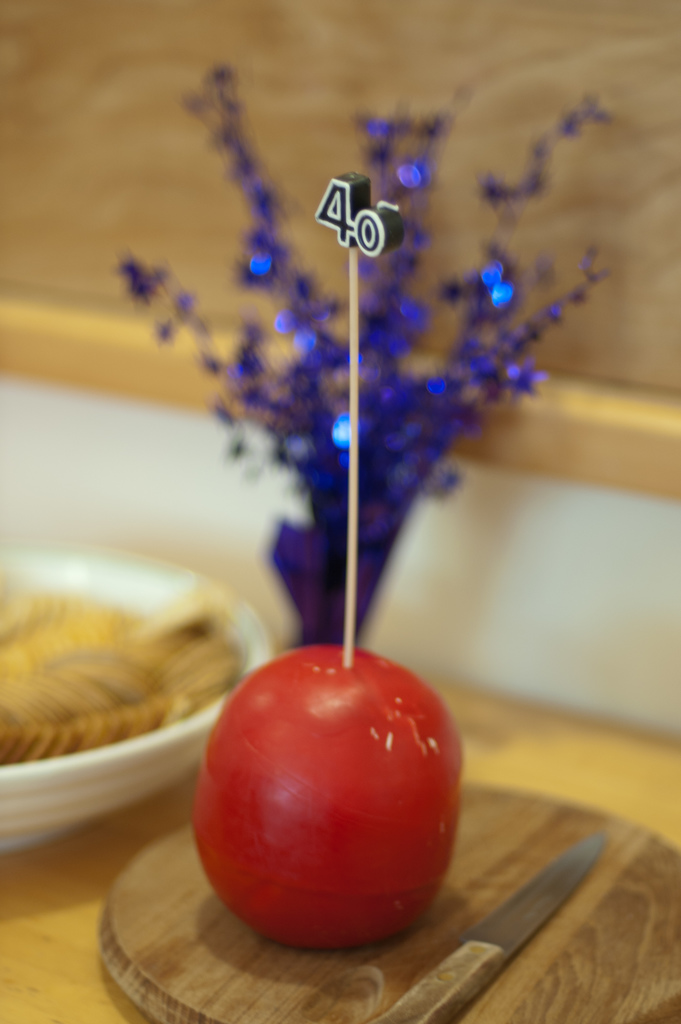Tomato: (191, 645, 463, 948)
